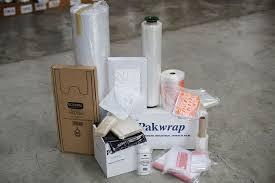Cardboard: (48, 61, 91, 152)
Stretch film: (66, 6, 110, 62), (136, 11, 161, 108), (162, 65, 184, 110)
